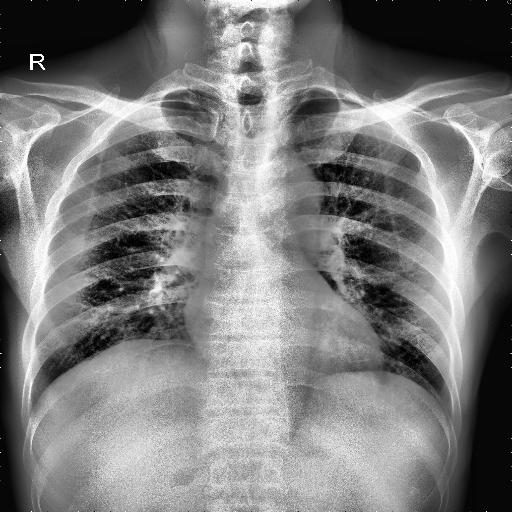0- Aortic enlargement: (250, 162, 320, 224), (262, 156, 320, 222), (260, 154, 319, 218)
